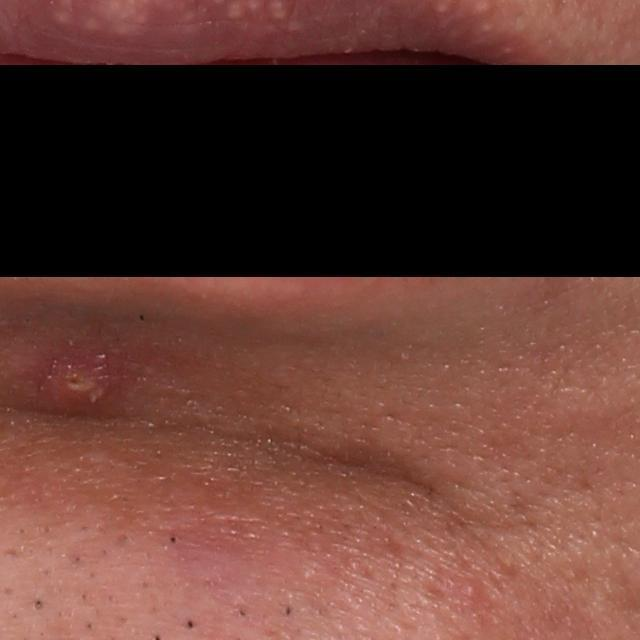pustule: (47, 353, 114, 408)
